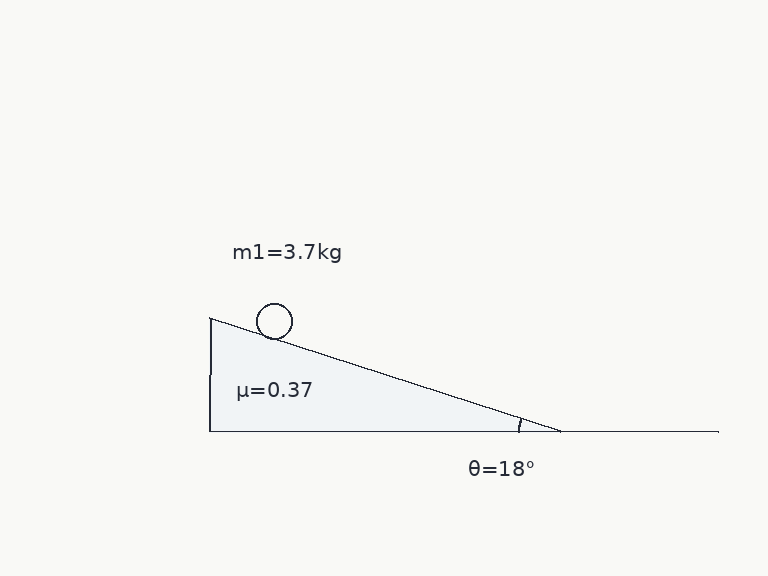ball: (254, 301, 294, 341)
ramp: (207, 316, 561, 434)
